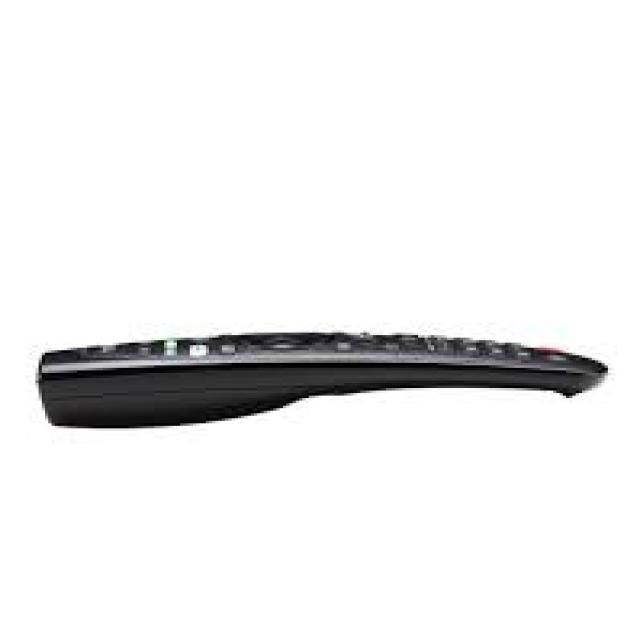remote: (34, 324, 613, 434)
